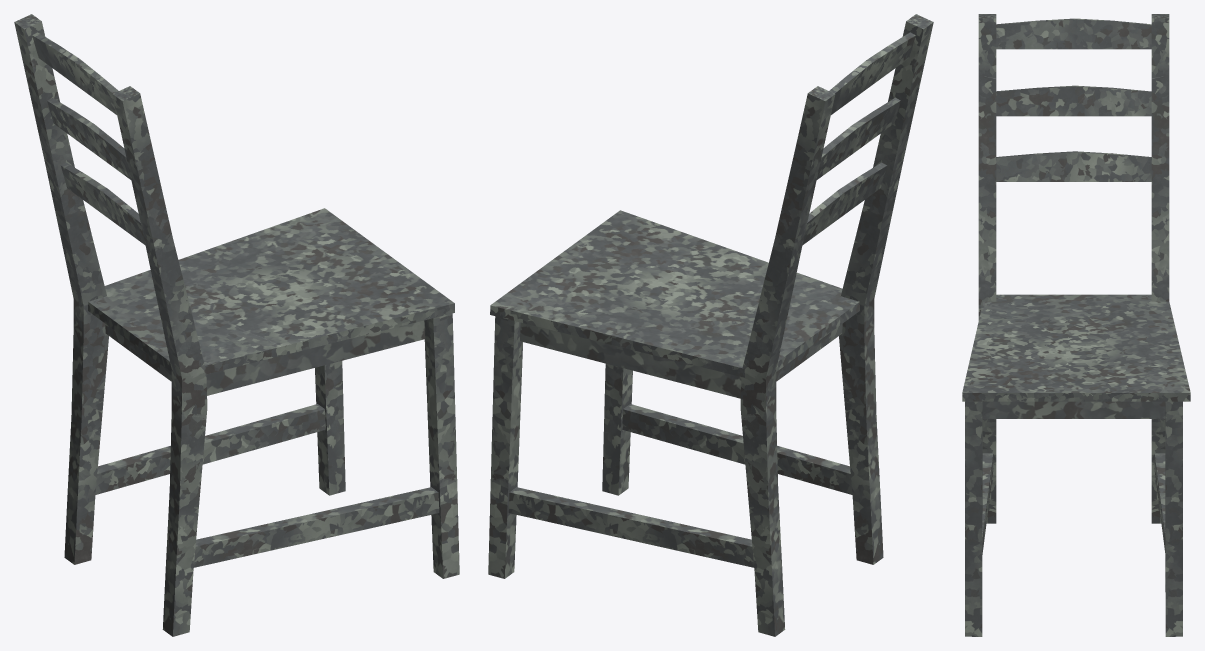
Rendered from chair.fbx.
3 views of the same model, side by side, from view 1: azimuth 30°, elevation 25°; view 2: azimuth 150°, elevation 25°; view 3: azimuth 270°, elevation 25° (orthographic). The views are drawn at different scales.
Parts seen in each view (by area): view 1: polySurface105; view 2: polySurface105; view 3: polySurface105.
Part boxes in pixels (<box>): polySurface105: <box>14,14,459,636</box>; polySurface105: <box>488,14,933,636</box>; polySurface105: <box>962,14,1190,636</box>.
Size of the model in its own units: 6 by 9.61 by 4.1.
1 material, 1 textured.
